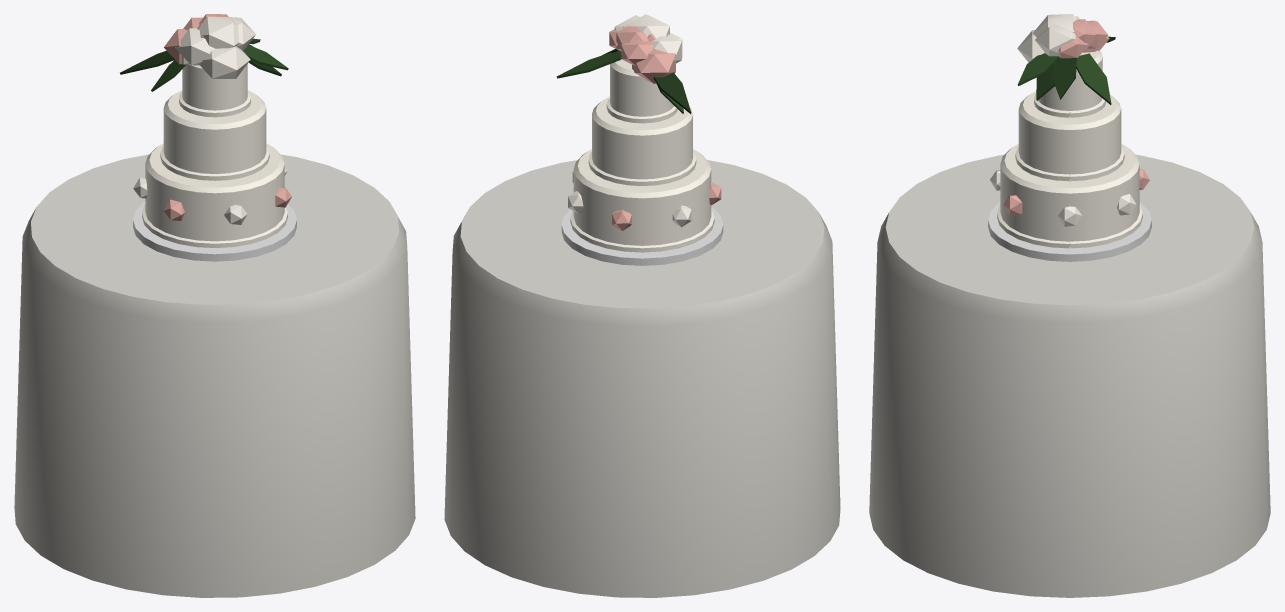
File: meridian_cake_table.glb
The picture shows the model from 3 angles, left to right: view 1: azimuth 30°, elevation 25°; view 2: azimuth 150°, elevation 25°; view 3: azimuth 270°, elevation 25°; orthographic projection.
Visible parts, largest first — view 1: meridian_cake_table; view 2: meridian_cake_table; view 3: meridian_cake_table.
Boxes of the visible parts, x1=… form: meridian_cake_table: x1=14, y1=14, x2=415, y2=597; meridian_cake_table: x1=444, y1=14, x2=840, y2=597; meridian_cake_table: x1=869, y1=14, x2=1270, y2=597.
Bounding box in the file's own units: 0.98 × 1.34 × 0.98.
